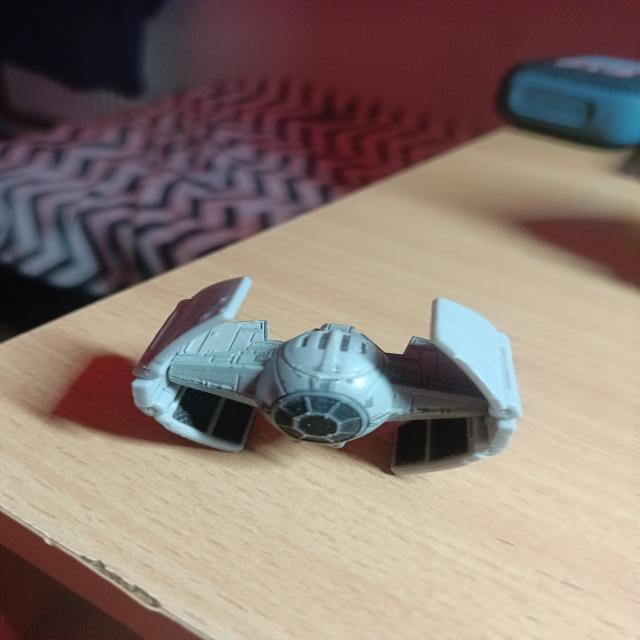tie fighter: (132, 277, 521, 472)
